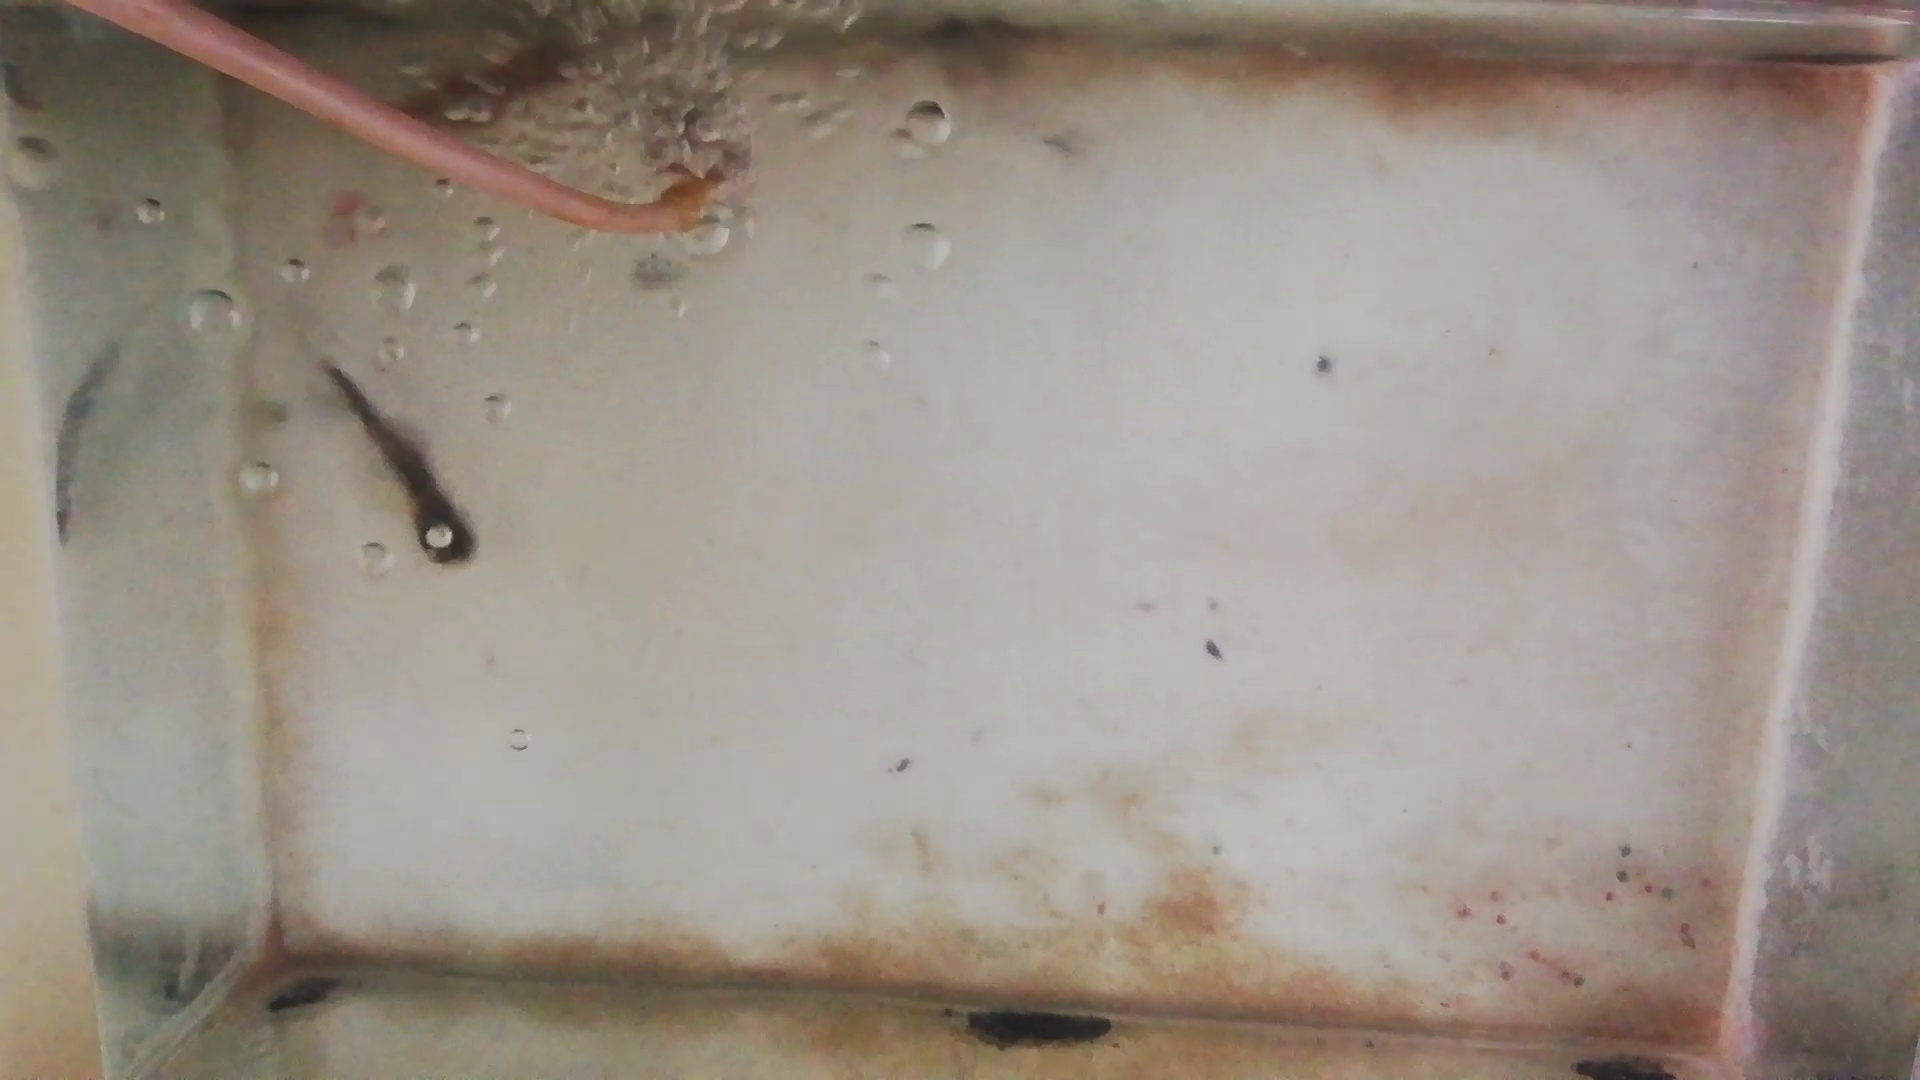fish: (311, 351, 477, 568), (382, 51, 583, 127)
